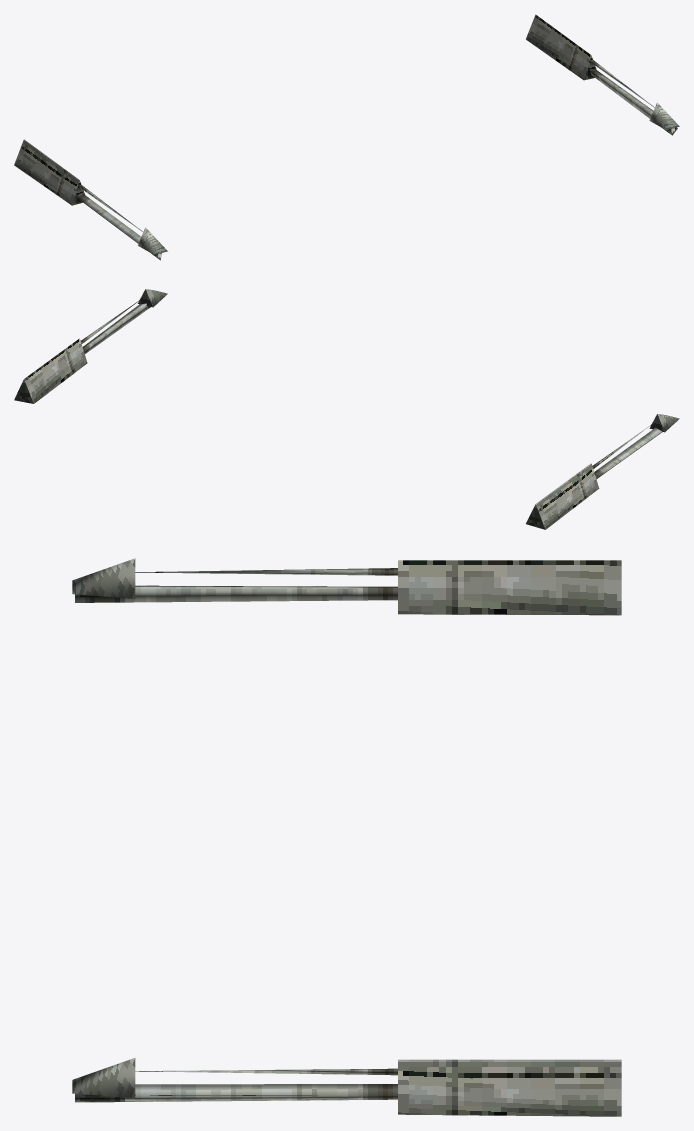
File: z95_weapon_s06_l3.fbx
The picture shows the model from 3 angles, top to bottom: view 1: azimuth 30°, elevation 25°; view 2: azimuth 150°, elevation 25°; view 3: azimuth 270°, elevation 25°; orthographic projection. The views are drawn at different scales.
Visible parts, largest first — view 1: mesh_node; view 2: mesh_node; view 3: mesh_node.
Boxes of the visible parts, x1,y1,x2,y2 form: mesh_node: (14,14,679,260); mesh_node: (14,289,679,529); mesh_node: (72,558,621,1116).
Bounding box in the file's own units: 14.52 × 0.6465 × 6.5.
Materials: 1 (1 with a texture image).
